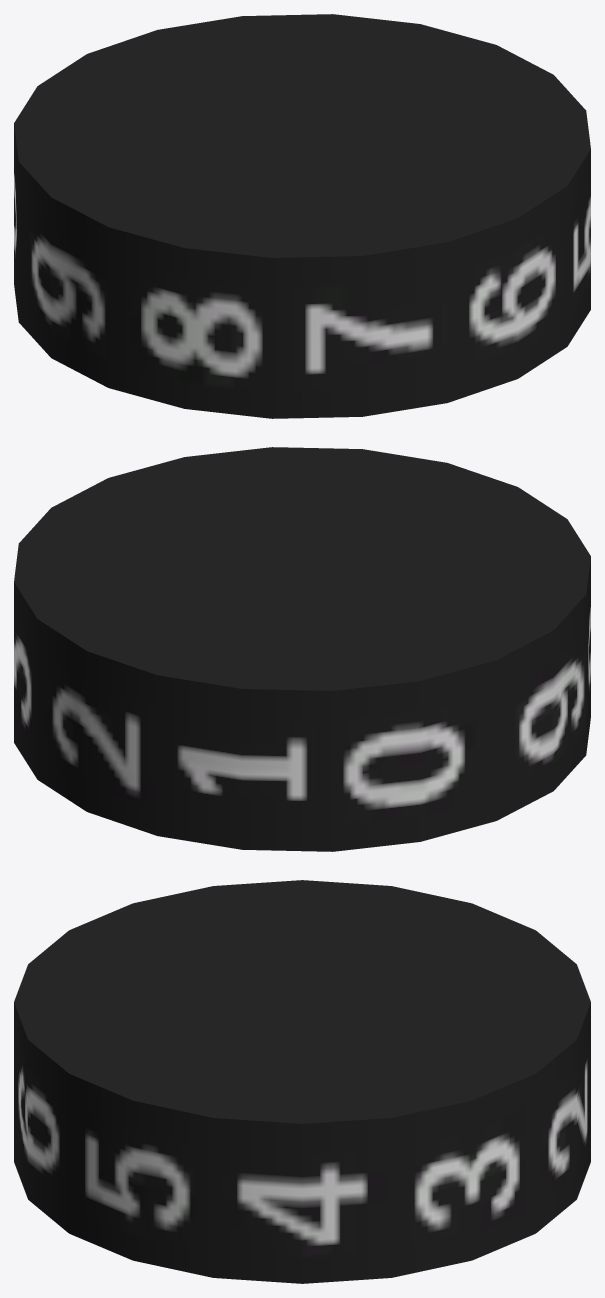
Rendered from nt_2020_wall_meter_numbers_LOD0.obj.
The picture shows the model from 3 angles, top to bottom: view 1: azimuth 30°, elevation 25°; view 2: azimuth 150°, elevation 25°; view 3: azimuth 270°, elevation 25°; orthographic projection.
Visible parts, largest first — view 1: nt_2020_scrolling_numbers; view 2: nt_2020_scrolling_numbers; view 3: nt_2020_scrolling_numbers.
Part boxes in pixels (<box>): nt_2020_scrolling_numbers: <box>14,14,590,418</box>; nt_2020_scrolling_numbers: <box>14,447,590,851</box>; nt_2020_scrolling_numbers: <box>14,880,590,1283</box>.
Size of the model in its own units: 6.25 by 1.91 by 6.25.
